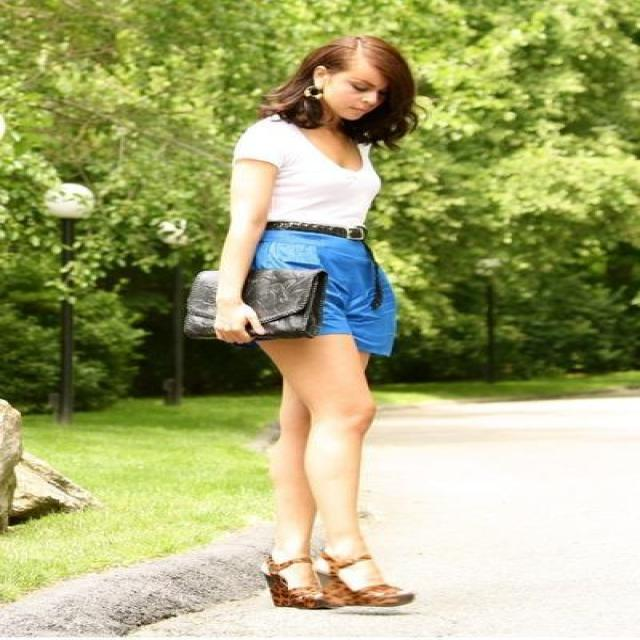bag: (184, 268, 334, 346)
shirt: (234, 115, 379, 233)
shoe: (266, 564, 412, 614)
shorts: (247, 229, 396, 366)
